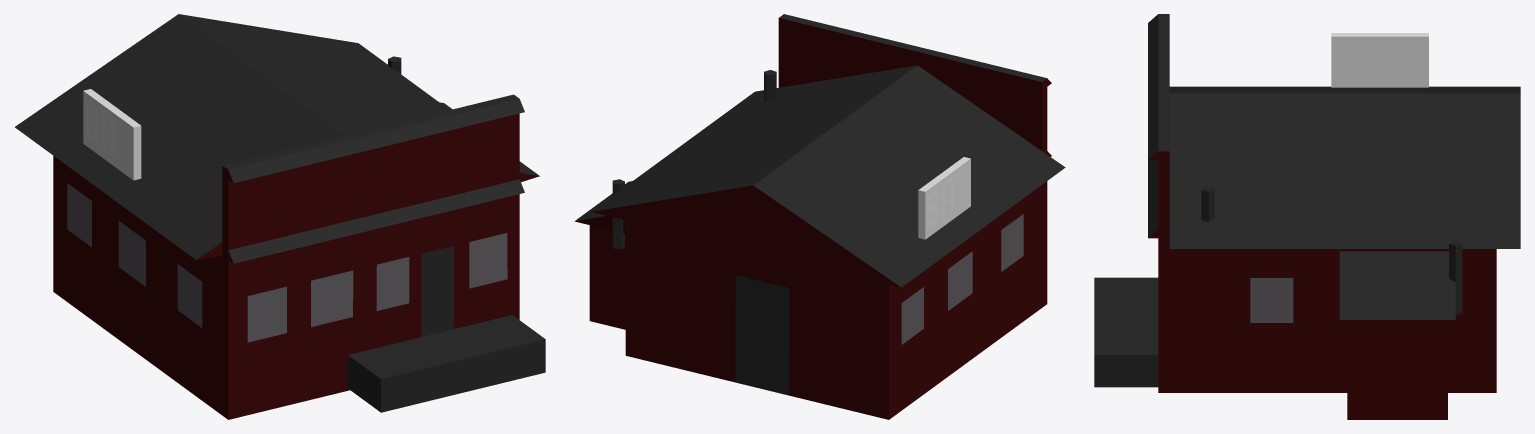
File: tavern.glb
3 renders of one model, left to right at view 1: azimuth 30°, elevation 25°; view 2: azimuth 150°, elevation 25°; view 3: azimuth 270°, elevation 25°, orthographic. The views are drawn at different scales.
Visible parts, largest first — view 1: Cube.025, Cube.021, Cube.022; view 2: Cube.025, Cube.024, Cube.022, Cylinder; view 3: Cube.025, Cube.024, Cube.021, Cube.022, Cylinder, Cylinder.001.
Part boxes in pixels (x1=…): Cube.025: x1=15, y1=14, x2=539, y2=419; Cube.021: x1=348, y1=315, x2=545, y2=412; Cube.022: x1=83, y1=89, x2=141, y2=180; Cube.025: x1=591, y1=14, x2=1065, y2=419; Cube.024: x1=574, y1=181, x2=632, y2=329; Cube.022: x1=918, y1=157, x2=970, y2=239; Cylinder: x1=612, y1=179, x2=624, y2=249; Cube.025: x1=1148, y1=14, x2=1520, y2=392; Cube.024: x1=1339, y1=251, x2=1455, y2=419; Cube.021: x1=1094, y1=277, x2=1158, y2=387; Cube.022: x1=1331, y1=33, x2=1428, y2=87; Cylinder: x1=1449, y1=240, x2=1462, y2=314; Cylinder.001: x1=1201, y1=186, x2=1214, y2=222.
Bounding box in the file's own units: 8.82 × 5.32 × 8.51.
